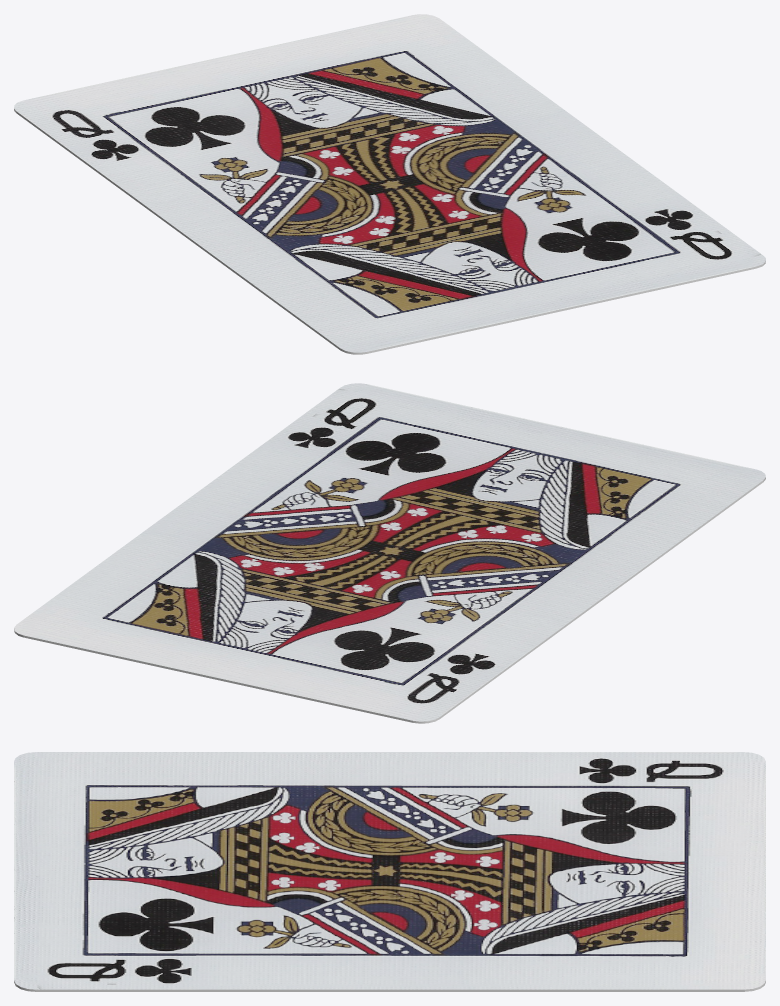
The model's file is clubsQ.fbx.
The picture shows the model from 3 angles, top to bottom: view 1: azimuth 30°, elevation 25°; view 2: azimuth 150°, elevation 25°; view 3: azimuth 270°, elevation 25°; orthographic projection. The views are drawn at different scales.
Visible parts, largest first — view 1: Clubs_Q_5; view 2: Clubs_Q_5; view 3: Clubs_Q_5.
Boxes of the visible parts, x1=… form: Clubs_Q_5: x1=14, y1=14, x2=765, y2=354; Clubs_Q_5: x1=14, y1=383, x2=765, y2=723; Clubs_Q_5: x1=14, y1=752, x2=765, y2=991.
Bounding box in the file's own units: 6.26 × 0.1776 × 8.8.
